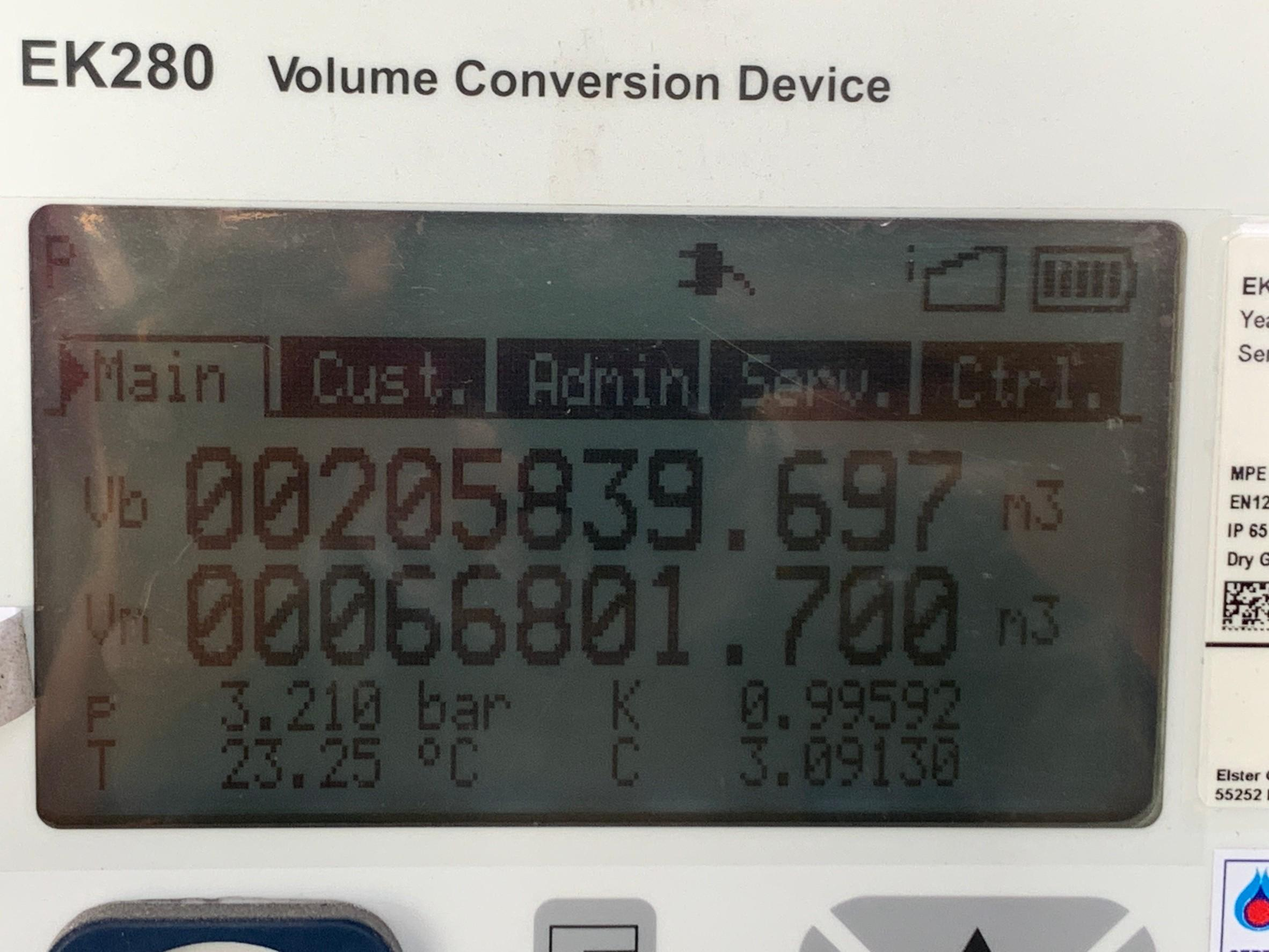digital_screen: (36, 210, 1181, 823)
